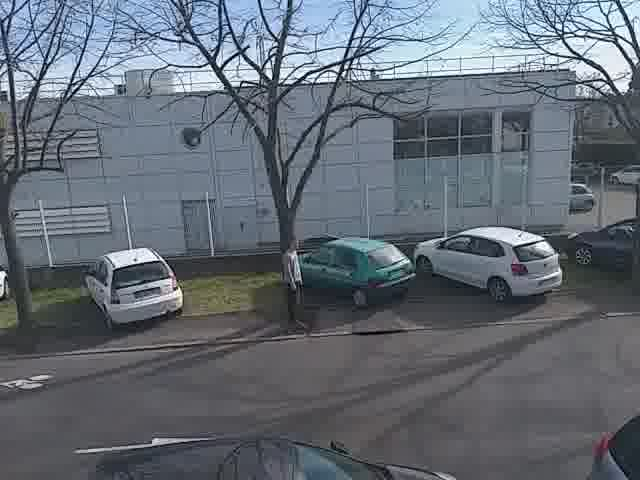persona: (274, 230, 309, 335)
